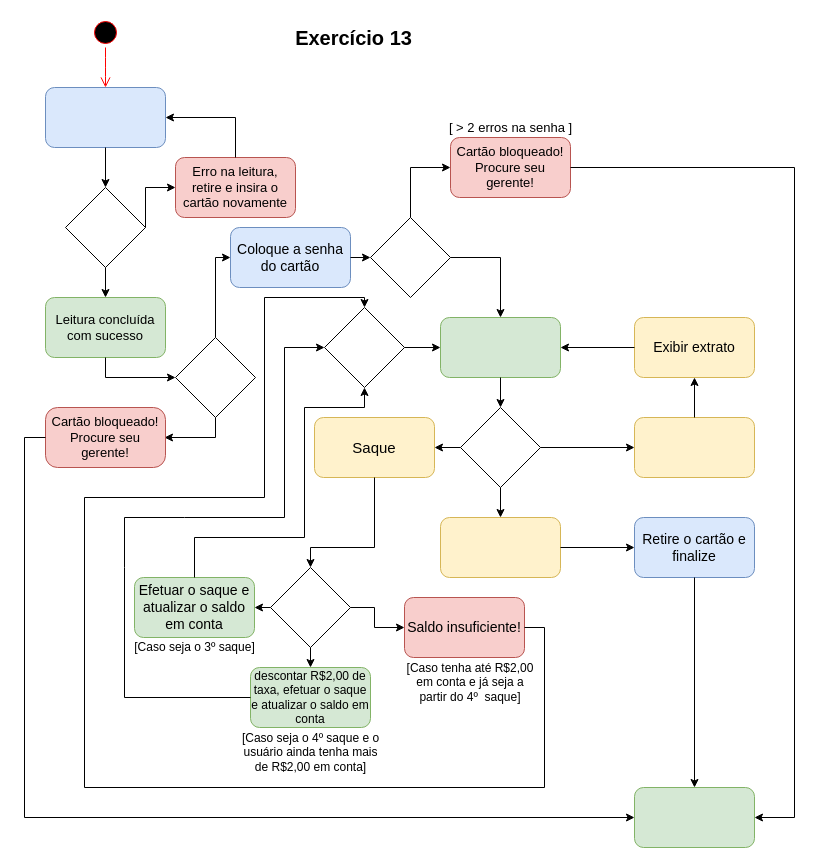
Some shapes in this 820 by 865 pixel diagram are drawn without their labels. The box of each missing label's shape, as (x1, y1, x2, y2) in pixels:
Extrato: (634, 416, 754, 478)
Finalizar: (634, 786, 754, 848)
insira o seu cartão no caixa eletronico: (44, 86, 166, 148)
Sair: (440, 516, 560, 578)
Senha correta!: (440, 316, 560, 378)
